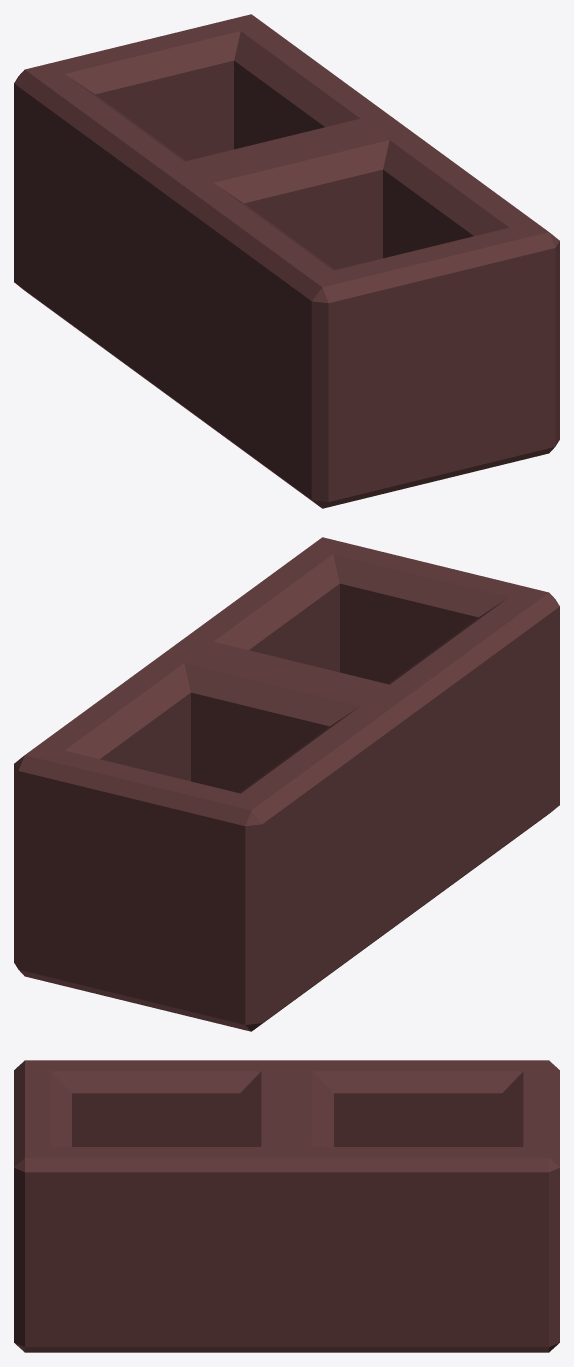
Rendered from props_33.glb.
3 views of the same model, one above another, from view 1: azimuth 30°, elevation 25°; view 2: azimuth 150°, elevation 25°; view 3: azimuth 270°, elevation 25° (orthographic). The views are drawn at different scales.
Visible parts, largest first — view 1: props_33; view 2: props_33; view 3: props_33.
Part boxes in pixels (x1=…): props_33: x1=14, y1=14, x2=559, y2=508; props_33: x1=14, y1=537, x2=559, y2=1031; props_33: x1=14, y1=1060, x2=559, y2=1352.
Size of the model in its own units: 0.2569 by 0.2188 by 0.5558.
1 material, 1 textured.
